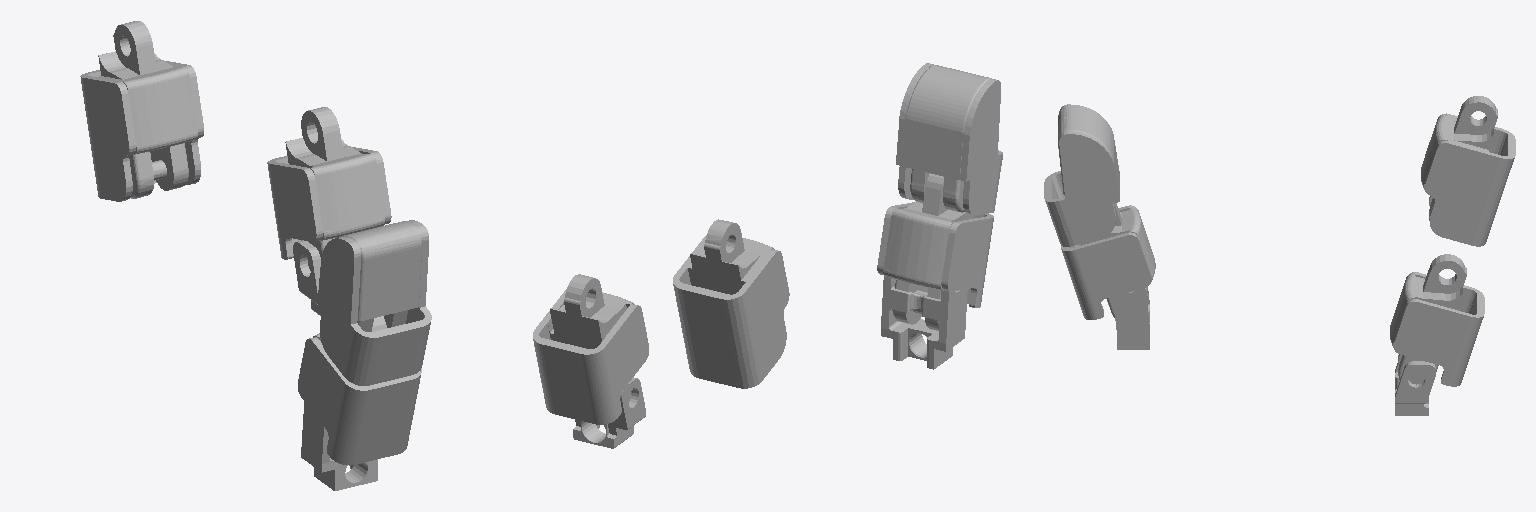
The robot description file, URDF, robot "heri_real":
<?xml version="1.0" ?>
<!-- =================================================================================== -->
<!-- |    This document was autogenerated by xacro from heri_real.xacro                | -->
<!-- |    EDITING THIS FILE BY HAND IS NOT RECOMMENDED                                 | -->
<!-- =================================================================================== -->
<robot name="heri_real" xmlns:xacro="http://ros.org/wiki/xacro">
  <!-- rosee plugin -->
  <gazebo>
    <plugin filename="libRoseePlugin.so" name="heri_controller">
      </plugin>
  </gazebo>
  <!-- /////////////////////////////////   Gazebo   ////////////////////////////////////// -->
  <gazebo reference="base_link">
    <fudgeFactor value="0.5"/>
    <material>Gazebo/Red</material>
  </gazebo>
  <gazebo reference="SFB1">
    <fudgeFactor value="0.5"/>
    <material>Gazebo/White</material>
  </gazebo>
  <gazebo reference="SFB1_1">
    <fudgeFactor value="0.5"/>
    <material>Gazebo/White</material>
  </gazebo>
  <gazebo reference="SFP1_2">
    <fudgeFactor value="0.5"/>
    <material>Gazebo/Blue</material>
  </gazebo>
  <gazebo reference="LFB1">
    <fudgeFactor value="0.5"/>
    <material>Gazebo/White</material>
  </gazebo>
  <gazebo reference="LFP1_1">
    <fudgeFactor value="0.5"/>
    <material>Gazebo/White</material>
  </gazebo>
  <gazebo reference="LFP1_2">
    <fudgeFactor value="0.5"/>
    <material>Gazebo/White</material>
  </gazebo>
  <gazebo reference="LFP1_3">
    <fudgeFactor value="0.5"/>
    <material>Gazebo/Blue</material>
  </gazebo>
  <gazebo reference="LFB2">
    <fudgeFactor value="0.5"/>
    <material>Gazebo/White</material>
  </gazebo>
  <gazebo reference="LFP2_1">
    <fudgeFactor value="0.5"/>
    <material>Gazebo/White</material>
  </gazebo>
  <gazebo reference="LFP2_2">
    <fudgeFactor value="0.5"/>
    <material>Gazebo/White</material>
  </gazebo>
  <gazebo reference="LFP2_3">
    <fudgeFactor value="0.5"/>
    <material>Gazebo/Blue</material>
  </gazebo>
  <material name="Black">
    <color rgba="0 0 0 1"/>
  </material>
  <material name="White">
    <color rgba="1 1 1 1"/>
  </material>
  <material name="Blue">
    <color rgba="0 0 1 1"/>
  </material>
  <material name="Red">
    <color rgba="1 0 0 1"/>
  </material>
  <!-- ///////////////////////////////////////   Short Finger   ////////////////////////////////////////// -->
  <!-- ///////////////////////////////////////   base_link   ////////////////////////////////////////// -->
  <link name="world"/>
  <joint name="world_base" type="fixed">
    <origin rpy="0 0 0" xyz="0 0 0.01"/>
    <parent link="world"/>
    <child link="base_link"/>
  </joint>
  <link name="base_link">
    <inertial>
      <origin rpy="0 0 0" xyz="0.00030739 0.003138 -0.0012876"/>
      <mass value="0.73864"/>
      <inertia ixx="0.0010292" ixy="-6.0935E-06" ixz="1.0739E-05" iyy="0.0011781" iyz="1.3882E-05" izz="0.00089393"/>
    </inertial>
    <visual>
      <origin rpy="0 0 0" xyz="0 0 0"/>
      <geometry>
        <mesh filename="package://heri_description/meshes/base_link.STL"/>
      </geometry>
      <material name="">
        <color rgba="0.75294 0.75294 0.75294 1"/>
      </material>
    </visual>
    <collision>
      <origin rpy="0 0 0" xyz="0 0 0"/>
      <geometry>
        <mesh filename="package://heri_description/meshes/base_link.STL"/>
      </geometry>
    </collision>
  </link>
  <!-- ///////////////////////////////////////   Base_Link of the short_finger   ////////////////////////////////////////// -->
  <link name="SFB1">
    <inertial>
      <origin rpy="0 0 0" xyz="3.9400487E-03 0 6.4488006E-03"/>
      <mass value="4.1065000E-03"/>
      <inertia ixx="4.3061452E-07" ixy="0" ixz="-1.2027573E-07" iyy="3.9605806E-07" iyz="0" izz="3.9738552E-07"/>
    </inertial>
    <visual>
      <origin rpy="0 0 0" xyz="0 0 0"/>
      <geometry>
        <mesh filename="package://heri_description/meshes/SFB1.STL"/>
      </geometry>
      <material name="">
        <color rgba="0.75294 0.75294 0.75294 1"/>
      </material>
    </visual>
    <collision>
      <origin rpy="0 0 0" xyz="0 0 0"/>
      <geometry>
        <mesh filename="package://heri_description/meshes/SFB1.STL"/>
      </geometry>
    </collision>
  </link>
  <!-- ///////////////////////////////////////   Joint of BASE and the base_link of the short finger   ////////////////////////////////////////// -->
  <joint name="BASE__SFB1" type="revolute">
    <origin rpy="1.5708 -1.5708 0" xyz="-0.0167 -0.0405 0.0635"/>
    <parent link="base_link"/>
    <child link="SFB1"/>
    <axis xyz="0 0 1"/>
    <limit effort="10" lower="-0.1" upper="0.1" velocity="1"/>
    <dynamics damping="0.7"/>
  </joint>
  <!-- ///////////////////////////////////////   First phalanx of the Short_Finger   ////////////////////////////////////////// -->
  <link name="SFB1_1">
    <inertial>
      <origin rpy="0 0 0" xyz="1.3557103E-02 -1.5667663E-04 1.4446853E-04"/>
      <mass value="2.1732283E-02"/>
      <inertia ixx="1.7547572E-06" ixy="1.2425281E-07" ixz="-5.2776703E-08" iyy="7.3422819E-06" iyz="-1.1395559E-09" izz="7.1587820E-06"/>
    </inertial>
    <visual>
      <origin rpy="0 0 0" xyz="0 0 0"/>
      <geometry>
        <mesh filename="package://heri_description/meshes/SFB1_1.STL"/>
      </geometry>
      <material name="">
        <color rgba="0.75294 0.75294 0.75294 1"/>
      </material>
    </visual>
    <collision>
      <origin rpy="0 0 0" xyz="0 0 0"/>
      <geometry>
        <mesh filename="package://heri_description/meshes/SFB1_1.STL"/>
      </geometry>
    </collision>
  </link>
  <!-- ///////////////////////////////////////   Joint of base_link and the first phalanx of the short finger   ////////////////////////////////////////// -->
  <joint name="SFB1__SFP1_1" type="revolute">
    <origin rpy="1.5708 -0.29671 0" xyz="0.011 0 0.007"/>
    <parent link="SFB1"/>
    <child link="SFB1_1"/>
    <axis xyz="0 0 -1"/>
    <limit effort="10" lower="-0.1" upper="0.5" velocity="1"/>
    <dynamics damping="0.7"/>
  </joint>
  <!-- ///////////////////////////////////////   Tip phalanx of the short finger   ////////////////////////////////////////// -->
  <link name="SFP1_2">
    <inertial>
      <origin rpy="0 0 0" xyz="1.2398348E-02 -3.4958691E-04 5.0212619E-05"/>
      <mass value="2.2266150E-02"/>
      <inertia ixx="1.7400409E-06" ixy="4.4309075E-07" ixz="-1.3771833E-08" iyy="6.8917616E-06" iyz="6.4562527E-09" izz="6.4653229E-06"/>
    </inertial>
    <visual>
      <origin rpy="0 0 0" xyz="0 0 0"/>
      <geometry>
        <mesh filename="package://heri_description/meshes/SFP1_2.STL"/>
      </geometry>
      <material name="">
        <color rgba="0.75294 0.75294 0.75294 1"/>
      </material>
    </visual>
    <collision>
      <origin rpy="0 0 0" xyz="0 0 0"/>
      <geometry>
        <mesh filename="package://heri_description/meshes/SFP1_2.STL"/>
      </geometry>
    </collision>
  </link>
  <!-- ///////////////////////////////////////   Joint of first and tip phalanxs of the short finger   ////////////////////////////////////////// -->
  <joint name="SFP1_1__SFP1_2" type="revolute">
    <origin rpy="0 0 0" xyz="0.035 0 0"/>
    <parent link="SFB1_1"/>
    <child link="SFP1_2"/>
    <axis xyz="0 0 -1"/>
    <limit effort="10" lower="-0.1" upper="0.5" velocity="1"/>
    <dynamics damping="0.7"/>
  </joint>
  <!-- ///////////////////////////////////////   Long finger 1   ////////////////////////////////////////// -->
  <!-- ///////////////////////////////////////   Base_Link of the long_finger   ////////////////////////////////////////// -->
  <link name="LFB1">
    <inertial>
      <origin rpy="0 0 0" xyz="3.9400487E-03 0 6.4488006E-03"/>
      <mass value="4.1065000E-03"/>
      <inertia ixx="4.3061452E-07" ixy="0" ixz="-1.2027573E-07" iyy="3.9605806E-07" iyz="0" izz="3.9738552E-07"/>
    </inertial>
    <visual>
      <origin rpy="0 0 0" xyz="0 0 0"/>
      <geometry>
        <mesh filename="package://heri_description/meshes/LFB1.STL"/>
      </geometry>
      <material name="">
        <color rgba="0.75294 0.75294 0.75294 1"/>
      </material>
    </visual>
    <collision>
      <origin rpy="0 0 0" xyz="0 0 0"/>
      <geometry>
        <mesh filename="package://heri_description/meshes/LFB1.STL"/>
      </geometry>
    </collision>
  </link>
  <!-- ///////////////////////////////////////   Joint of BASE and the base_link of the short finger   ////////////////////////////////////////// -->
  <joint name="BASE__LFB1" type="revolute">
    <origin rpy="1.5708 -1.5708 3.1415927" xyz="-0.0167 0.0405 0.0635"/>
    <parent link="base_link"/>
    <child link="LFB1"/>
    <axis xyz="0 0 1"/>
    <limit effort="10" lower="-0.1" upper="0.1" velocity="1"/>
    <dynamics damping="0.7"/>
  </joint>
  <!-- ///////////////////////////////////////   First phalanx of the Long_Finger   ////////////////////////////////////////// -->
  <link name="LFP1_1">
    <inertial>
      <origin rpy="0 0 0" xyz="1.3557103E-02 -1.5667663E-04 1.4446853E-04"/>
      <mass value="2.1732283E-02"/>
      <inertia ixx="1.7547572E-06" ixy="1.2425281E-07" ixz="-5.2776703E-08" iyy="7.3422819E-06" iyz="-1.1395559E-09" izz="7.1587820E-06"/>
    </inertial>
    <visual>
      <origin rpy="0 0 0" xyz="0 0 0"/>
      <geometry>
        <mesh filename="package://heri_description/meshes/LFP1_1.STL"/>
      </geometry>
      <material name="">
        <color rgba="0.75294 0.75294 0.75294 1"/>
      </material>
    </visual>
    <collision>
      <origin rpy="0 0 0" xyz="0 0 0"/>
      <geometry>
        <mesh filename="package://heri_description/meshes/LFP1_1.STL"/>
      </geometry>
    </collision>
  </link>
  <!-- ///////////////////////////////////////   Joint of base_link and the first phalanx of the short finger   ////////////////////////////////////////// -->
  <joint name="LFB1__LFP1_1" type="revolute">
    <origin rpy="1.5708 -0.29671 0" xyz="0.011 0 0.007"/>
    <parent link="LFB1"/>
    <child link="LFP1_1"/>
    <axis xyz="0 0 -1"/>
    <limit effort="10" lower="-0.1" upper="0.5" velocity="1"/>
    <dynamics damping="0.7"/>
  </joint>
  <!-- ///////////////////////////////////////   Second phalanx of the Long_Finger   ////////////////////////////////////////// -->
  <link name="LFP1_2">
    <inertial>
      <origin rpy="0 0 0" xyz="1.2838417E-02 2.5385905E-04 1.2711003E-04"/>
      <mass value="2.2971404E-02"/>
      <inertia ixx="1.9943688E-06" ixy="1.3380251E-07" ixz="-5.3468405E-08" iyy="7.4922799E-06" iyz="-9.2812315E-10" izz="7.3102836E-06"/>
    </inertial>
    <visual>
      <origin rpy="0 0 0" xyz="0 0 0"/>
      <geometry>
        <mesh filename="package://heri_description/meshes/LFP1_2.STL"/>
      </geometry>
      <material name="">
        <color rgba="0.75294 0.75294 0.75294 1"/>
      </material>
    </visual>
    <collision>
      <origin rpy="0 0 0" xyz="0 0 0"/>
      <geometry>
        <mesh filename="package://heri_description/meshes/LFP1_2.STL"/>
      </geometry>
    </collision>
  </link>
  <!-- ///////////////////////////////////////   Joint of base_link and the first phalanx of the short finger   ////////////////////////////////////////// -->
  <joint name="LFP1_1__LFP1_2" type="revolute">
    <origin rpy="0 0 0" xyz="0.035 0 0"/>
    <parent link="LFP1_1"/>
    <child link="LFP1_2"/>
    <axis xyz="0 0 -1"/>
    <limit effort="10" lower="-0.1" upper="0.5" velocity="1"/>
    <dynamics damping="0.7"/>
  </joint>
  <!-- ///////////////////////////////////////   Tip phalanx of the long finger   ////////////////////////////////////////// -->
  <link name="LFP1_3">
    <inertial>
      <origin rpy="0 0 0" xyz="1.2398348E-02 -3.4958691E-04 5.0212619E-05"/>
      <mass value="2.2266150E-02"/>
      <inertia ixx="1.7400409E-06" ixy="4.4309075E-07" ixz="-1.3771833E-08" iyy="6.8917616E-06" iyz="6.4562527E-09" izz="6.4653229E-06"/>
    </inertial>
    <visual>
      <origin rpy="0 0 0" xyz="0 0 0"/>
      <geometry>
        <mesh filename="package://heri_description/meshes/LFP1_3.STL"/>
      </geometry>
      <material name="">
        <color rgba="0.75294 0.75294 0.75294 1"/>
      </material>
    </visual>
    <collision>
      <origin rpy="0 0 0" xyz="0 0 0"/>
      <geometry>
        <mesh filename="package://heri_description/meshes/LFP1_3.STL"/>
      </geometry>
    </collision>
  </link>
  <!-- ///////////////////////////////////////   Joint of second and tip phalanxs of the long finger   ////////////////////////////////////////// -->
  <joint name="LFP1_2__LFP1_3" type="revolute">
    <origin rpy="0 0 0" xyz="0.035 0 0"/>
    <parent link="LFP1_2"/>
    <child link="LFP1_3"/>
    <axis xyz="0 0 -1"/>
    <limit effort="10" lower="-0.1" upper="0.5" velocity="1"/>
    <dynamics damping="0.7"/>
  </joint>
  <!-- ///////////////////////////////////////   Long finger 2   ////////////////////////////////////////// -->
  <!-- ///////////////////////////////////////   Base_Link of the long_finger   ////////////////////////////////////////// -->
  <link name="LFB2">
    <inertial>
      <origin rpy="0 0 0" xyz="3.9400487E-03 0 6.4488006E-03"/>
      <mass value="4.1065000E-03"/>
      <inertia ixx="4.3061452E-07" ixy="0" ixz="-1.2027573E-07" iyy="3.9605806E-07" iyz="0" izz="3.9738552E-07"/>
    </inertial>
    <visual>
      <origin rpy="0 0 0" xyz="0 0 0"/>
      <geometry>
        <mesh filename="package://heri_description/meshes/LFB2.STL"/>
      </geometry>
      <material name="">
        <color rgba="0.75294 0.75294 0.75294 1"/>
      </material>
    </visual>
    <collision>
      <origin rpy="0 0 0" xyz="0 0 0"/>
      <geometry>
        <mesh filename="package://heri_description/meshes/LFB2.STL"/>
      </geometry>
    </collision>
  </link>
  <!-- ///////////////////////////////////////   Joint of BASE and the base_link of the short finger   ////////////////////////////////////////// -->
  <joint name="BASE__LFB2" type="revolute">
    <origin rpy="1.5708 -1.5708 3.1415927" xyz="0.0353 0.0405 0.0635"/>
    <parent link="base_link"/>
    <child link="LFB2"/>
    <axis xyz="0 0 1"/>
    <limit effort="10" lower="-0.1" upper="0.1" velocity="1"/>
    <dynamics damping="0.7"/>
  </joint>
  <!-- ///////////////////////////////////////   First phalanx of the Long_Finger   ////////////////////////////////////////// -->
  <link name="LFP2_1">
    <inertial>
      <origin rpy="0 0 0" xyz="1.3557103E-02 -1.5667663E-04 1.4446853E-04"/>
      <mass value="2.1732283E-02"/>
      <inertia ixx="1.7547572E-06" ixy="1.2425281E-07" ixz="-5.2776703E-08" iyy="7.3422819E-06" iyz="-1.1395559E-09" izz="7.1587820E-06"/>
    </inertial>
    <visual>
      <origin rpy="0 0 0" xyz="0 0 0"/>
      <geometry>
        <mesh filename="package://heri_description/meshes/LFP2_1.STL"/>
      </geometry>
      <material name="">
        <color rgba="0.75294 0.75294 0.75294 1"/>
      </material>
    </visual>
    <collision>
      <origin rpy="0 0 0" xyz="0 0 0"/>
      <geometry>
        <mesh filename="package://heri_description/meshes/LFP2_1.STL"/>
      </geometry>
    </collision>
  </link>
  <!-- ///////////////////////////////////////   Joint of base_link and the first phalanx of the short finger   ////////////////////////////////////////// -->
  <joint name="LFB2__LFP2_1" type="revolute">
    <origin rpy="1.5708 -0.29671 0" xyz="0.011 0 0.007"/>
    <parent link="LFB2"/>
    <child link="LFP2_1"/>
    <axis xyz="0 0 -1"/>
    <limit effort="10" lower="-0.1" upper="0.5" velocity="1"/>
    <dynamics damping="0.7"/>
  </joint>
  <!-- ///////////////////////////////////////   Second phalanx of the Long_Finger   ////////////////////////////////////////// -->
  <link name="LFP2_2">
    <inertial>
      <origin rpy="0 0 0" xyz="1.2838417E-02 2.5385905E-04 1.2711003E-04"/>
      <mass value="2.2971404E-02"/>
      <inertia ixx="1.9943688E-06" ixy="1.3380251E-07" ixz="-5.3468405E-08" iyy="7.4922799E-06" iyz="-9.2812315E-10" izz="7.3102836E-06"/>
    </inertial>
    <visual>
      <origin rpy="0 0 0" xyz="0 0 0"/>
      <geometry>
        <mesh filename="package://heri_description/meshes/LFP2_2.STL"/>
      </geometry>
      <material name="">
        <color rgba="0.75294 0.75294 0.75294 1"/>
      </material>
    </visual>
    <collision>
      <origin rpy="0 0 0" xyz="0 0 0"/>
      <geometry>
        <mesh filename="package://heri_description/meshes/LFP2_2.STL"/>
      </geometry>
    </collision>
  </link>
  <!-- ///////////////////////////////////////   Joint of base_link and the first phalanx of the short finger   ////////////////////////////////////////// -->
  <joint name="LFP2_1__LFP2_2" type="revolute">
    <origin rpy="0 0 0" xyz="0.035 0 0"/>
    <parent link="LFP2_1"/>
    <child link="LFP2_2"/>
    <axis xyz="0 0 -1"/>
    <limit effort="10" lower="-0.1" upper="0.5" velocity="1"/>
    <dynamics damping="0.7"/>
  </joint>
  <!-- ///////////////////////////////////////   Tip phalanx of the long finger   ////////////////////////////////////////// -->
  <link name="LFP2_3">
    <inertial>
      <origin rpy="0 0 0" xyz="1.2398348E-02 -3.4958691E-04 5.0212619E-05"/>
      <mass value="2.2266150E-02"/>
      <inertia ixx="1.7400409E-06" ixy="4.4309075E-07" ixz="-1.3771833E-08" iyy="6.8917616E-06" iyz="6.4562527E-09" izz="6.4653229E-06"/>
    </inertial>
    <visual>
      <origin rpy="0 0 0" xyz="0 0 0"/>
      <geometry>
        <mesh filename="package://heri_description/meshes/LFP2_3.STL"/>
      </geometry>
      <material name="">
        <color rgba="0.75294 0.75294 0.75294 1"/>
      </material>
    </visual>
    <collision>
      <origin rpy="0 0 0" xyz="0 0 0"/>
      <geometry>
        <mesh filename="package://heri_description/meshes/LFP2_3.STL"/>
      </geometry>
    </collision>
  </link>
  <!-- ///////////////////////////////////////   Joint of second and tip phalanxs of the long finger   ////////////////////////////////////////// -->
  <joint name="LFP2_2__LFP2_3" type="revolute">
    <origin rpy="0 0 0" xyz="0.035 0 0"/>
    <parent link="LFP2_2"/>
    <child link="LFP2_3"/>
    <axis xyz="0 0 -1"/>
    <limit effort="10" lower="-0.1" upper="0.5" velocity="1"/>
    <dynamics damping="0.7"/>
  </joint>
</robot>

--- Facts derived from the render (not from the file) ---
The picture shows the robot from 3 angles, left to right: view 1: azimuth 30°, elevation 25°; view 2: azimuth 150°, elevation 25°; view 3: azimuth 270°, elevation 25°; orthographic projection.
Model heri_real with 13 links and 12 joints (11 revolute, 1 fixed), rooted at world, posed every joint at zero.
Visible links, largest first — view 1: LFP1_2, SFP1_2, LFP2_1, SFB1_1, SFB1, LFB2; view 2: LFP1_2, SFP1_2, LFP2_1, SFB1_1, SFB1, LFB2; view 3: LFP1_2, LFP2_1, SFP1_2, SFB1_1, SFB1, LFB2.
Link boxes in pixels (x1,y1,x2,y2): LFP1_2: [80, 21, 203, 201]; SFP1_2: [317, 220, 431, 385]; LFP2_1: [267, 107, 391, 270]; SFB1_1: [298, 316, 421, 465]; SFB1: [301, 402, 377, 490]; LFB2: [293, 240, 321, 315]; LFP1_2: [673, 219, 789, 388]; SFP1_2: [896, 63, 1002, 215]; LFP2_1: [533, 274, 648, 424]; SFB1_1: [877, 173, 993, 330]; SFB1: [881, 276, 967, 369]; LFB2: [573, 377, 645, 448]; LFP1_2: [1421, 96, 1515, 246]; LFP2_1: [1390, 254, 1484, 386]; SFP1_2: [1044, 104, 1119, 246]; SFB1_1: [1061, 203, 1155, 319]; SFB1: [1113, 287, 1149, 349]; LFB2: [1395, 361, 1435, 415].
Bounding box of the posed robot: 0.0752 × 0.1555 × 0.0884 m (x, y, z).
Meshes: 12 distinct files referenced, 6 mesh visuals loaded (6 binary STL); not drawn: 6 (reference not matched to a file when rendering).
